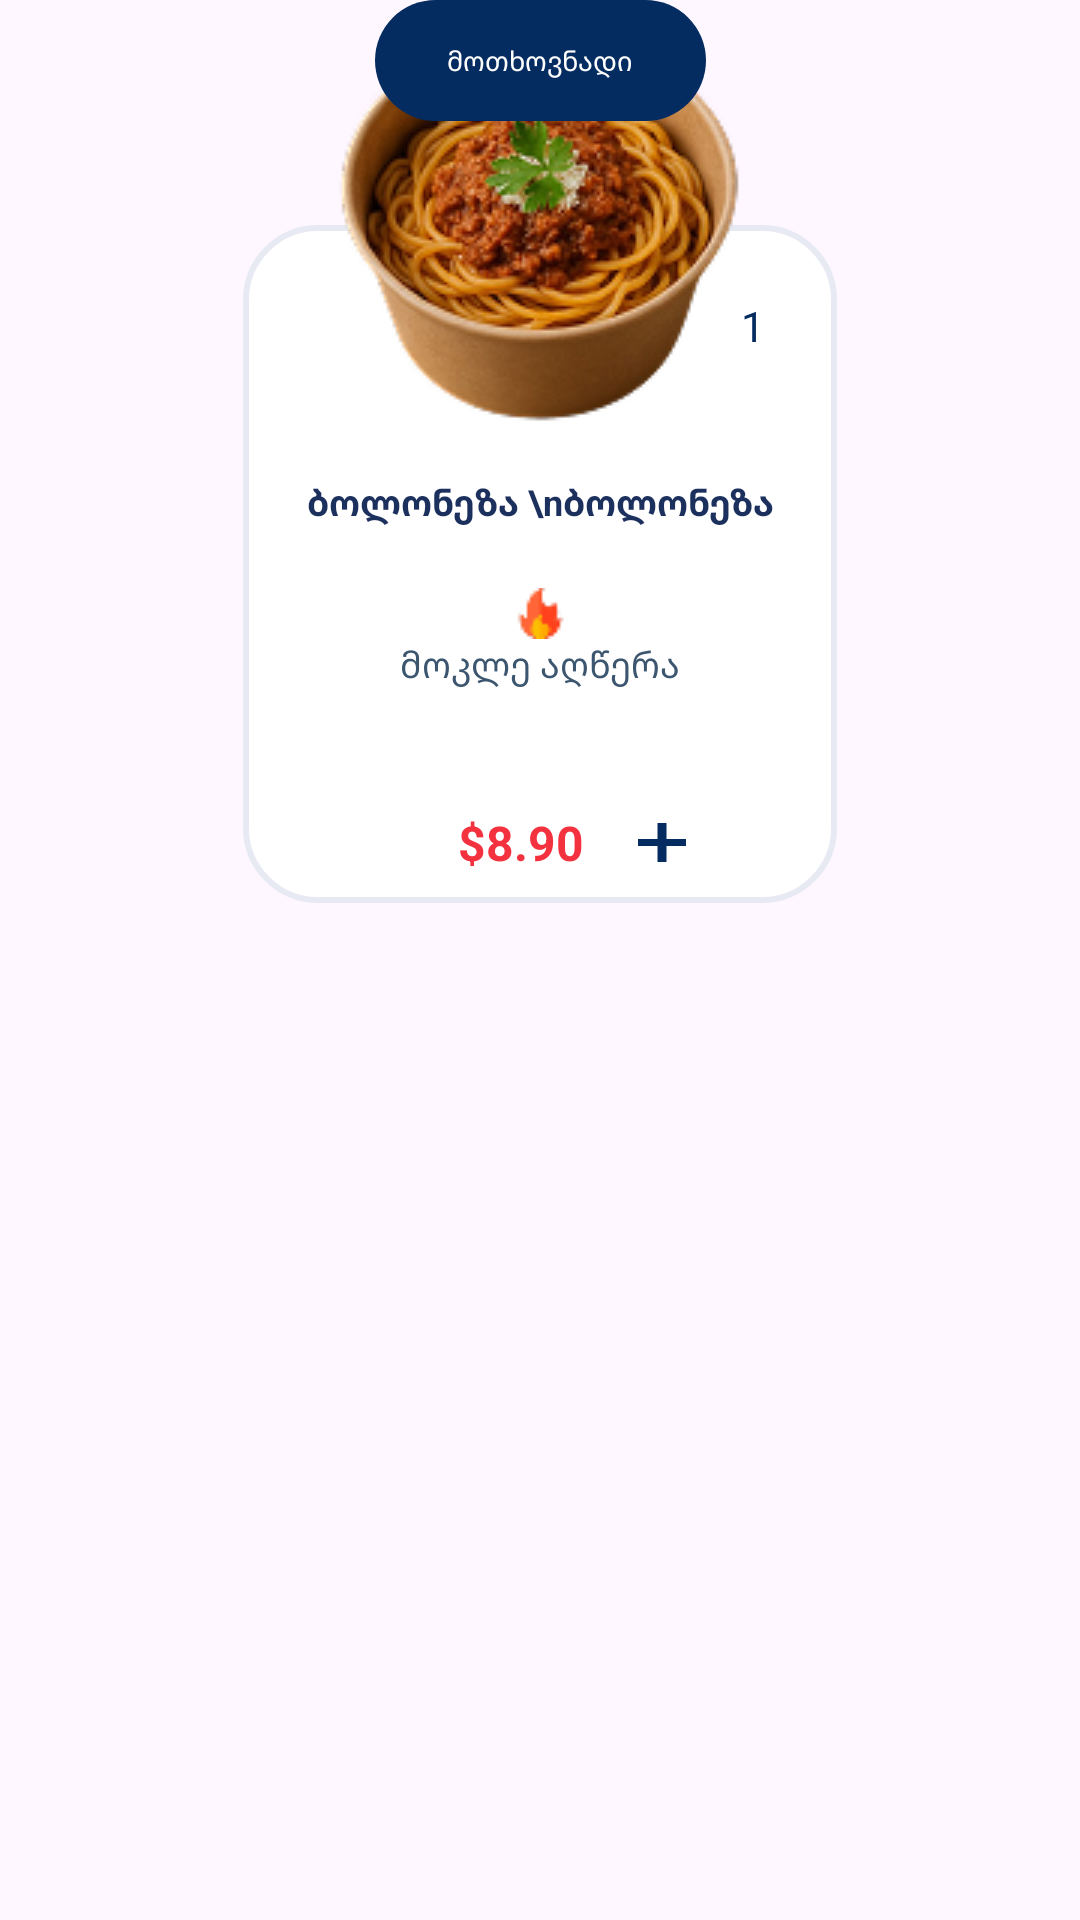

Icon bounding boxes for this 1080 x 1920 phone screenshot, format (x1, y1, x2, y2):
fire: (518, 588, 564, 639)
plus: (638, 823, 686, 862)
